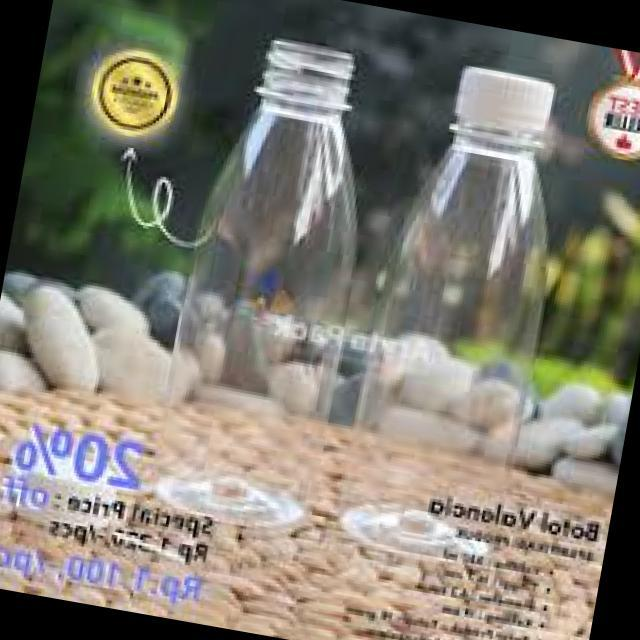good: (312, 44, 584, 586), (145, 29, 397, 542)
